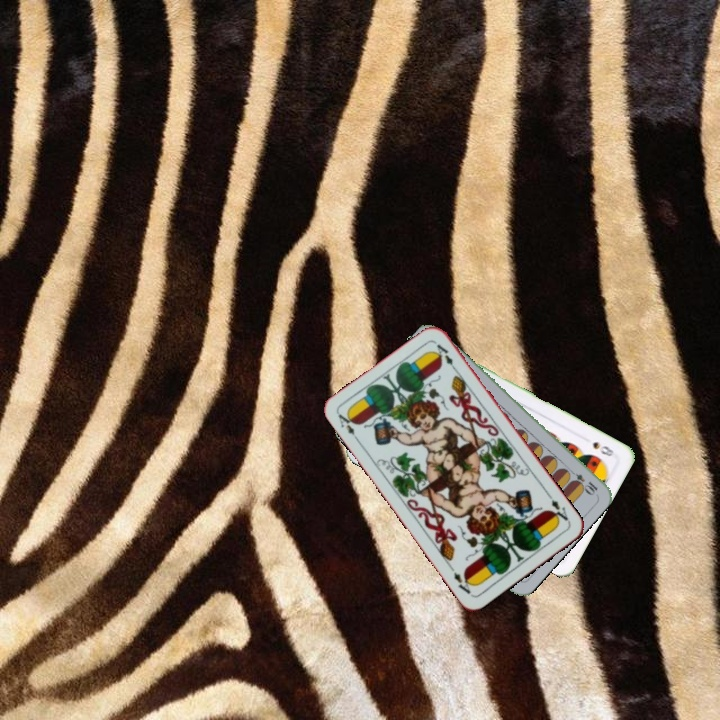E10: (564, 465, 600, 497)
EA: (543, 490, 573, 526), (334, 409, 362, 445)
S8: (589, 437, 617, 459)
